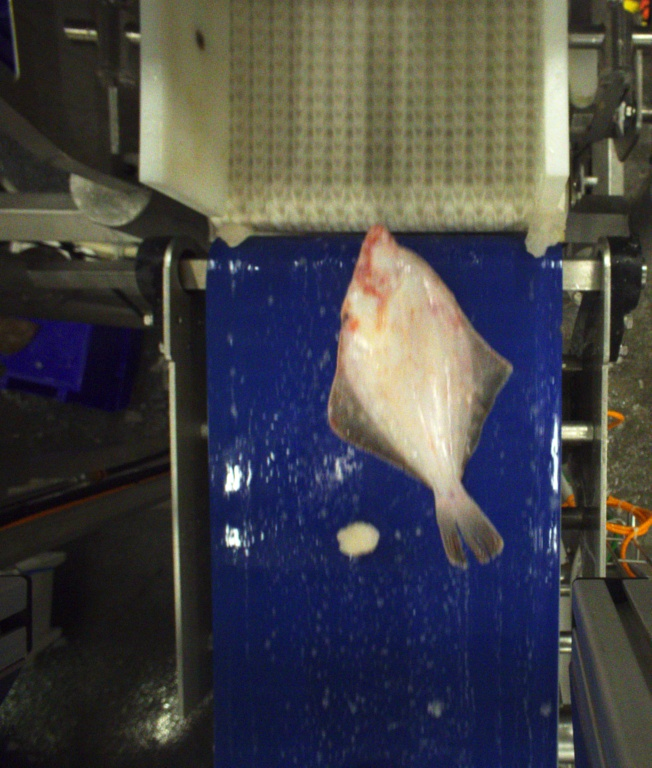PLE: (322, 220, 512, 570)
